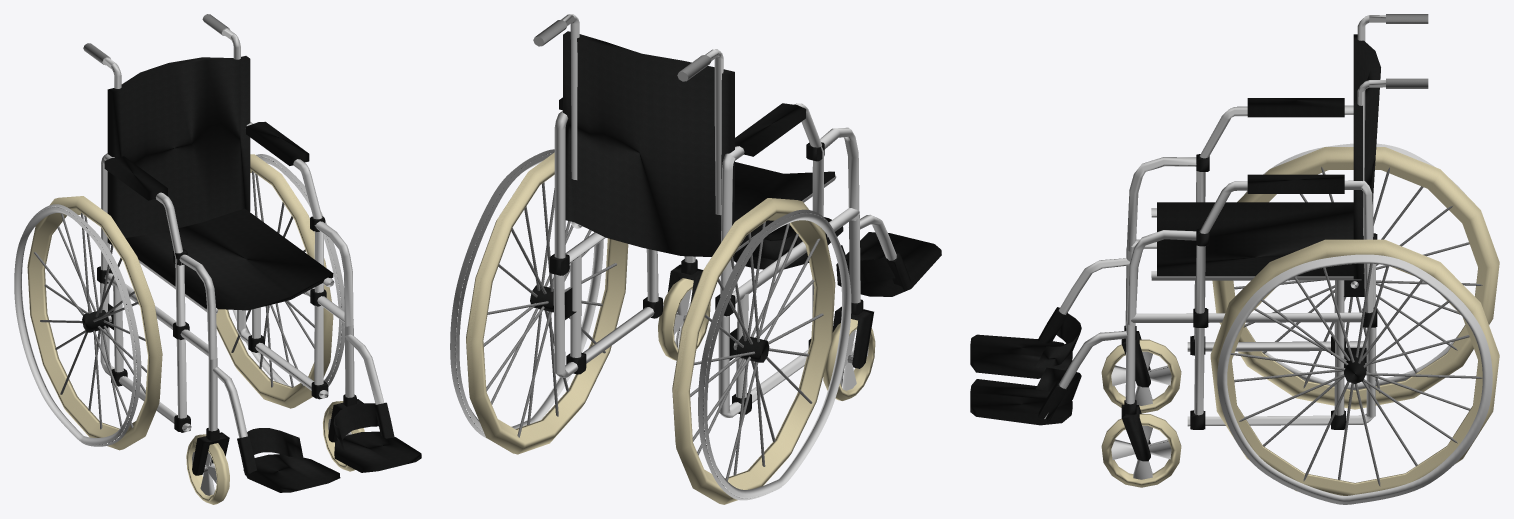
Rendered from weelshear_single.fbx.
The picture shows the model from 3 angles, left to right: view 1: azimuth 30°, elevation 25°; view 2: azimuth 150°, elevation 25°; view 3: azimuth 270°, elevation 25°; orthographic projection. The views are drawn at different scales.
Parts seen in each view (by area): view 1: Rollstuhl_inffussion2_Mesh_004, Rollstuhl_inffussion2_Mesh, Rollstuhl_inffussion2_Mesh_002, Rollstuhl_inffussion2_Mesh_001, Rollstuhl_inffussion2_Mesh_003; view 2: Rollstuhl_inffussion2_Mesh_004, Rollstuhl_inffussion2_Mesh, Rollstuhl_inffussion2_Mesh_002, Rollstuhl_inffussion2_Mesh_001, Rollstuhl_inffussion2_Mesh_003; view 3: Rollstuhl_inffussion2_Mesh_004, Rollstuhl_inffussion2_Mesh, Rollstuhl_inffussion2_Mesh_002, Rollstuhl_inffussion2_Mesh_001, Rollstuhl_inffussion2_Mesh_003.
Part boxes in pixels (x1,y1,x2,y2): Rollstuhl_inffussion2_Mesh_004: (82, 56, 421, 492); Rollstuhl_inffussion2_Mesh: (14, 28, 384, 495); Rollstuhl_inffussion2_Mesh_002: (27, 154, 364, 504); Rollstuhl_inffussion2_Mesh_001: (34, 171, 314, 429); Rollstuhl_inffussion2_Mesh_003: (83, 14, 228, 64); Rollstuhl_inffussion2_Mesh_004: (530, 31, 941, 414); Rollstuhl_inffussion2_Mesh: (450, 14, 896, 500); Rollstuhl_inffussion2_Mesh_002: (466, 152, 875, 504); Rollstuhl_inffussion2_Mesh_001: (483, 182, 823, 481); Rollstuhl_inffussion2_Mesh_003: (535, 19, 711, 80); Rollstuhl_inffussion2_Mesh_004: (970, 34, 1380, 461); Rollstuhl_inffussion2_Mesh: (1044, 15, 1492, 504); Rollstuhl_inffussion2_Mesh_002: (1101, 147, 1499, 495); Rollstuhl_inffussion2_Mesh_001: (1230, 167, 1482, 486); Rollstuhl_inffussion2_Mesh_003: (1386, 14, 1428, 88).
Bounding box in the file's own units: 64.23 × 106 × 124.
